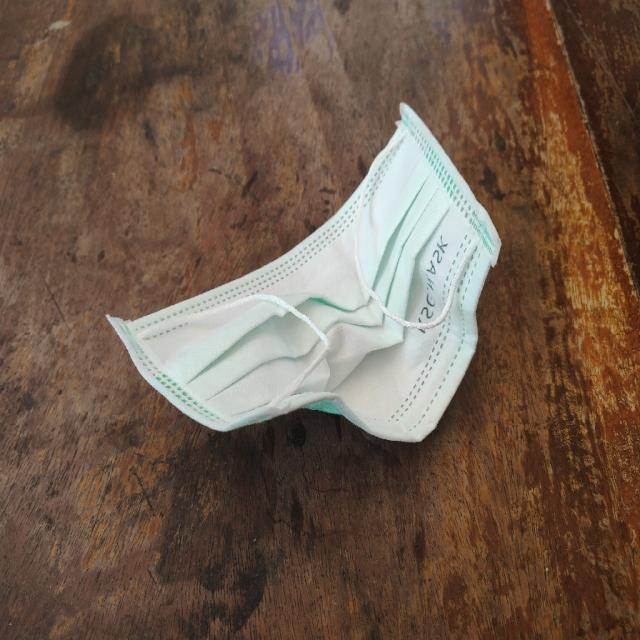face mask: (105, 98, 502, 444)
